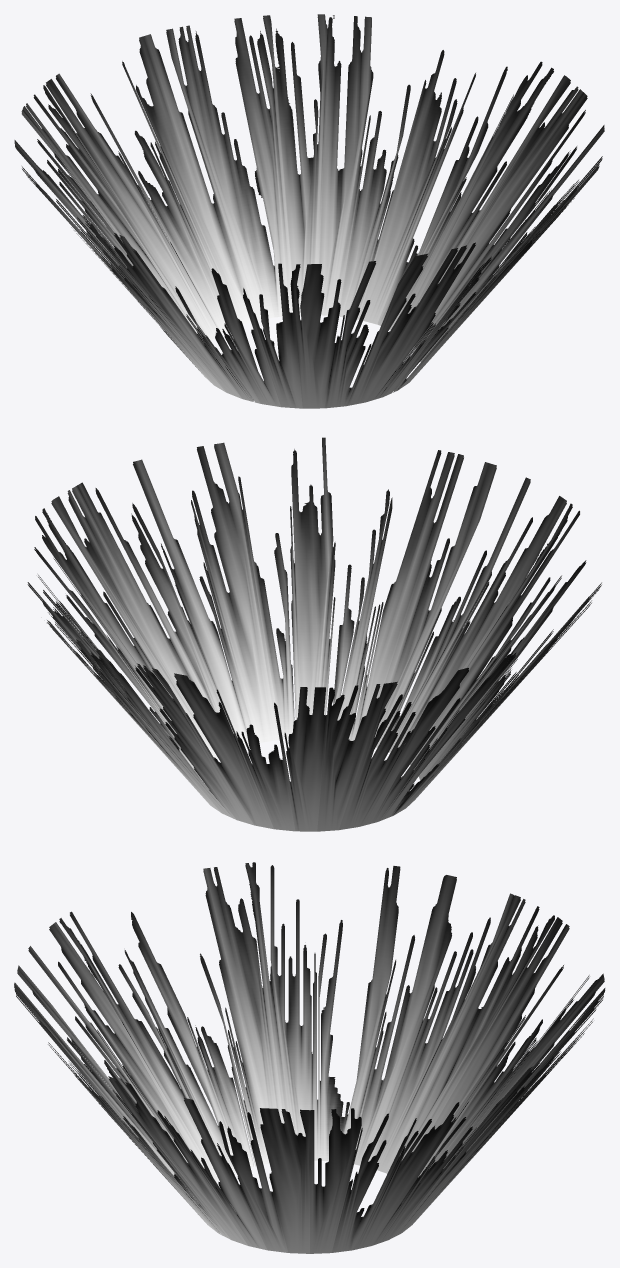
Rendered from CharaEffectCircle.obj.
3 renders of one model, top to bottom at view 1: azimuth 30°, elevation 25°; view 2: azimuth 150°, elevation 25°; view 3: azimuth 270°, elevation 25°, orthographic.
Visible parts, largest first — view 1: 円; view 2: 円; view 3: 円.
Boxes of the visible parts, x1,y1,x2,y2 form: 円: (14,14,604,408); 円: (27,437,601,831); 円: (14,862,605,1253).
Bounding box in the file's own units: 10.83 × 4.48 × 10.83.
1 material, 1 textured.
